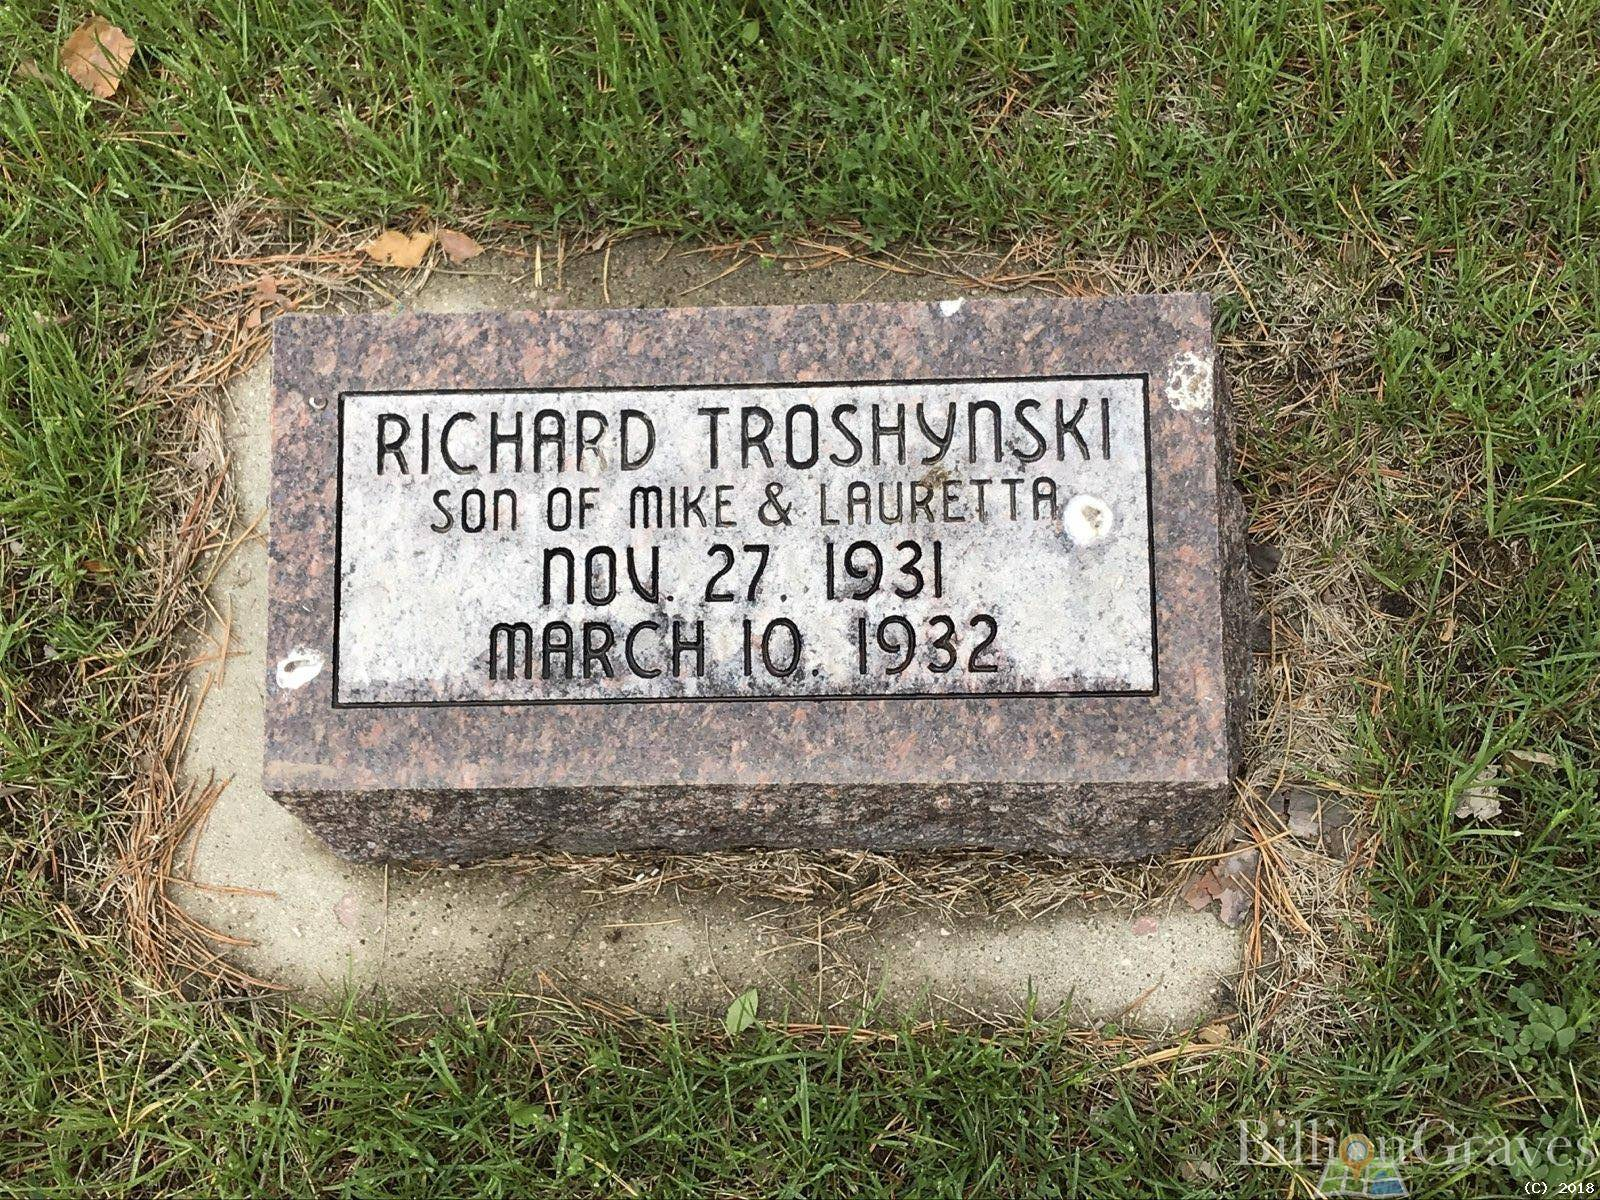flat: (266, 286, 1227, 874)
